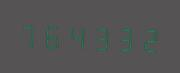four: (66, 19, 89, 52)
seven: (17, 17, 40, 51)
six: (41, 18, 64, 52)
three: (114, 20, 137, 54), (90, 20, 113, 53)
two: (138, 21, 161, 55)
